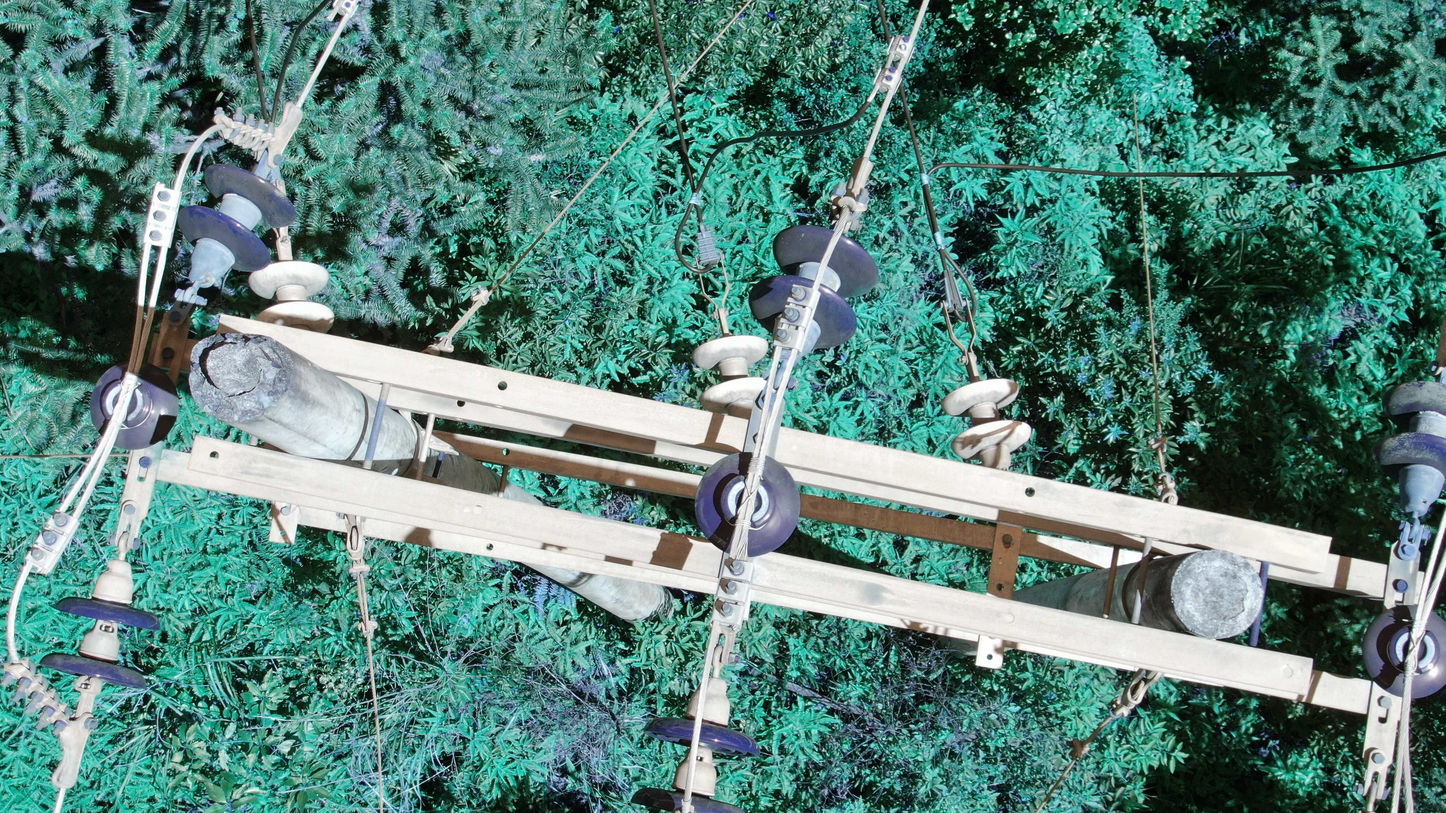severe_soiling_no_discharge_whole: (173, 157, 299, 294), (689, 449, 807, 567), (1367, 369, 1445, 521), (938, 370, 1036, 470), (690, 330, 776, 418), (245, 255, 337, 332)
